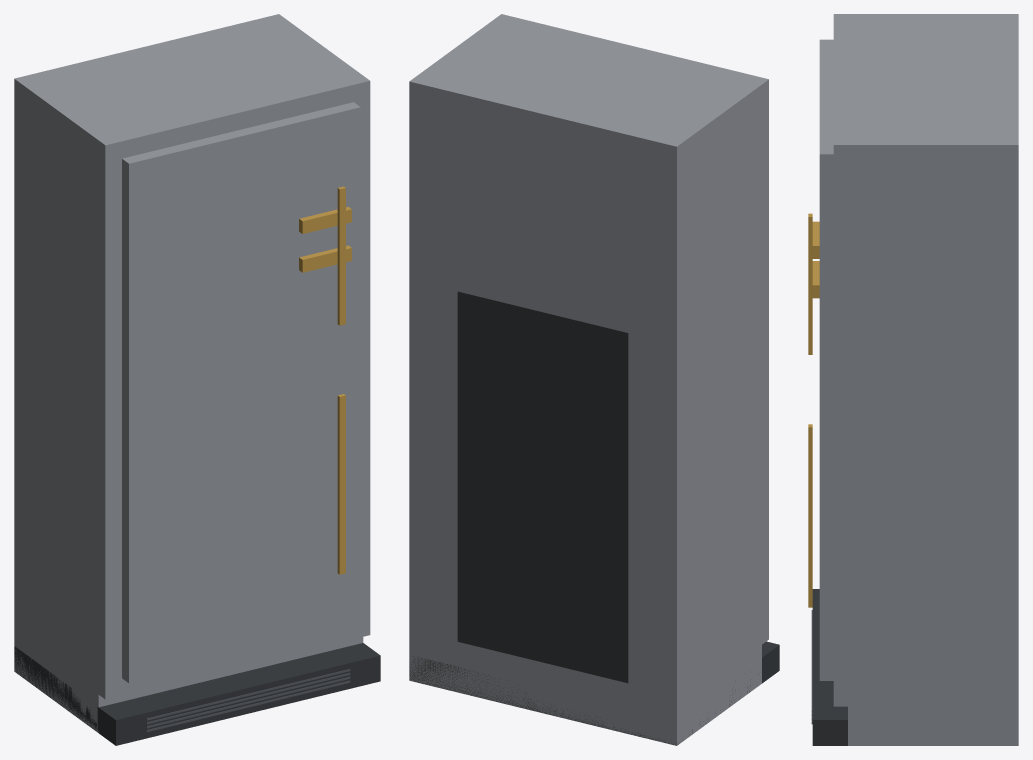
File: kitchenFridge.glb
3 renders of one model, left to right at view 1: azimuth 30°, elevation 25°; view 2: azimuth 150°, elevation 25°; view 3: azimuth 270°, elevation 25°, orthographic.
Visible parts, largest first — view 1: kitchenFridge(Clone), doorFridge, doorFreezer; view 2: kitchenFridge(Clone); view 3: kitchenFridge(Clone), doorFridge, doorFreezer.
Boxes of the visible parts, <box> form: kitchenFridge(Clone): <box>14,14,380,745</box>; doorFridge: <box>122,229,360,683</box>; doorFreezer: <box>122,102,360,285</box>; kitchenFridge(Clone): <box>409,14,779,745</box>; kitchenFridge(Clone): <box>808,14,1018,745</box>; doorFridge: <box>812,261,833,680</box>; doorFreezer: <box>812,39,833,278</box>.
Size of the model in its own units: 0.43 by 0.92 by 0.2919.
